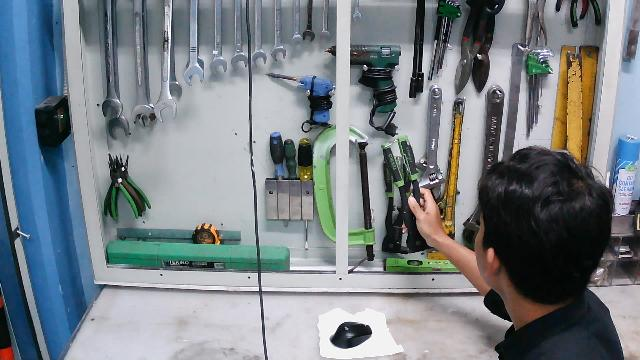tang_rivet: (379, 137, 438, 253)
